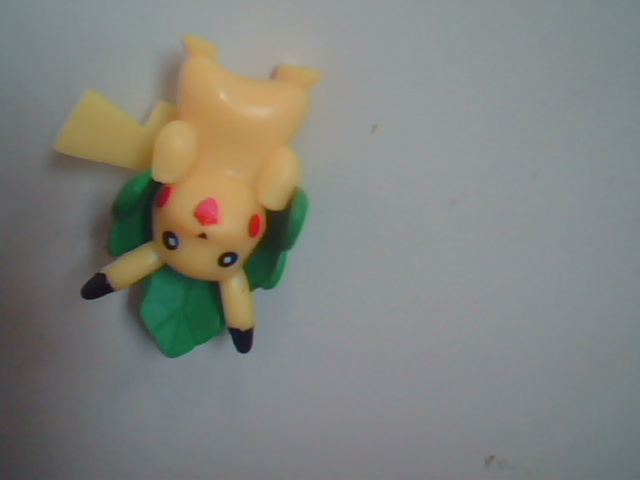pikachu: (61, 34, 434, 402)
